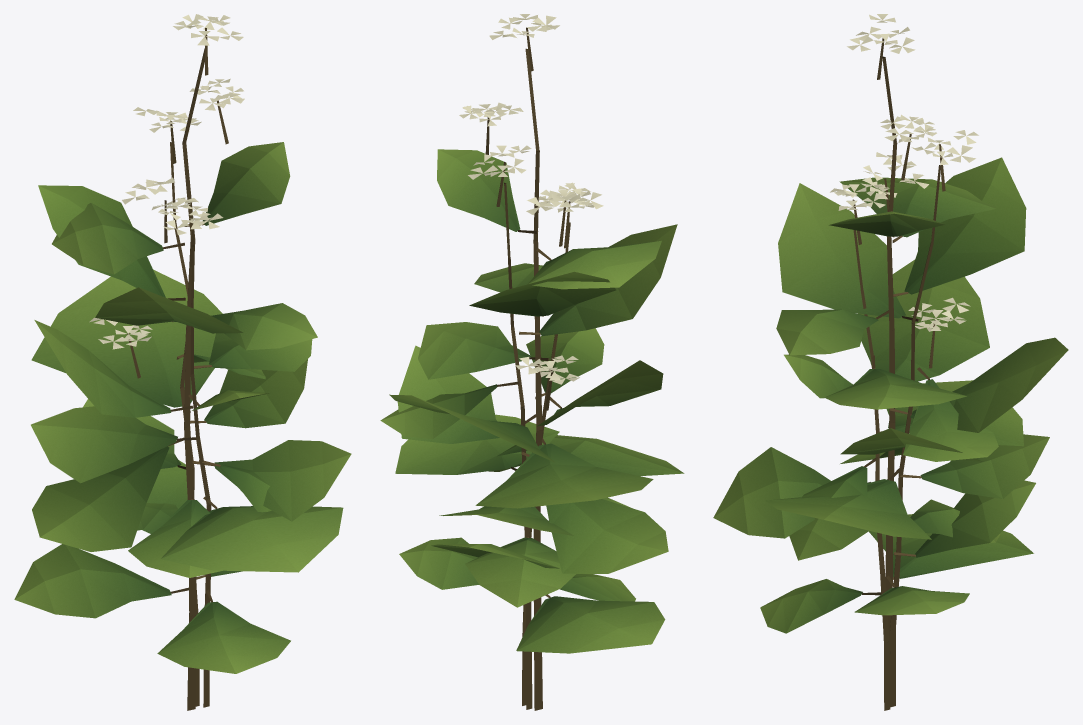
File: forest_shrub_001_b_LOD1.gltf
3 views of the same model, side by side, from view 1: azimuth 30°, elevation 25°; view 2: azimuth 150°, elevation 25°; view 3: azimuth 270°, elevation 25° (orthographic).
Parts seen in each view (by area): view 1: forest_shrub_001_b_LOD1; view 2: forest_shrub_001_b_LOD1; view 3: forest_shrub_001_b_LOD1.
Boxes of the visible parts, box(x1,y1,x2,y2) form: forest_shrub_001_b_LOD1: box(14, 14, 351, 710); forest_shrub_001_b_LOD1: box(380, 14, 684, 710); forest_shrub_001_b_LOD1: box(713, 14, 1068, 710).
Bounding box in the file's own units: 0.5541 × 1.31 × 0.6162.
1 material, 1 textured.
